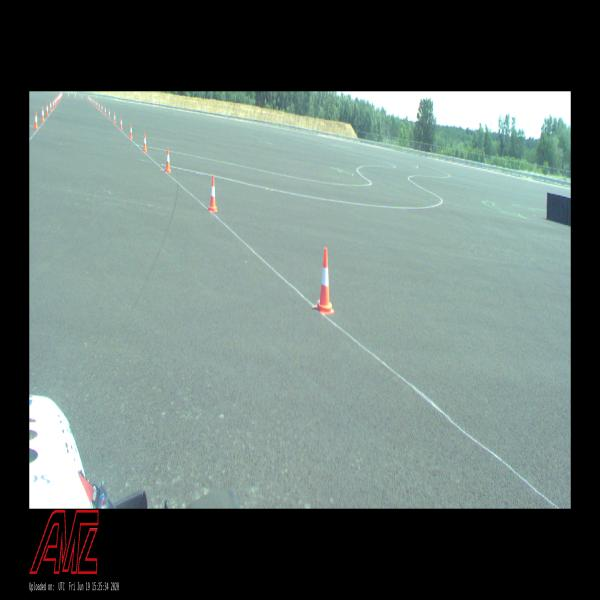orange_cone: (315, 248, 334, 314), (208, 175, 218, 212), (165, 148, 171, 172), (33, 112, 38, 129), (143, 133, 147, 151), (129, 124, 133, 139), (41, 107, 44, 121), (46, 103, 49, 115), (49, 100, 52, 112), (113, 112, 116, 123), (120, 117, 122, 130), (108, 110, 110, 118), (104, 107, 106, 115), (101, 104, 103, 112), (54, 98, 56, 106), (96, 101, 98, 108), (98, 103, 100, 109), (92, 98, 94, 104), (57, 96, 59, 102), (94, 100, 96, 105), (88, 96, 90, 101), (87, 95, 89, 100), (81, 94, 83, 99), (53, 99, 54, 108), (56, 96, 57, 103), (90, 96, 91, 102), (91, 97, 92, 102)
